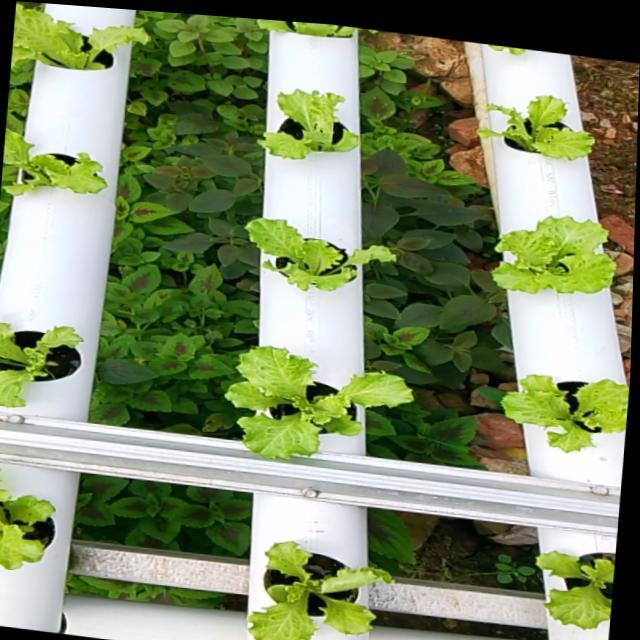Baby: (232, 348, 417, 458), (255, 539, 399, 640), (250, 220, 400, 293), (494, 219, 619, 295), (504, 375, 629, 451), (11, 10, 153, 75), (0, 317, 91, 408), (3, 129, 114, 199), (480, 99, 596, 163), (263, 93, 363, 163), (0, 461, 65, 567), (541, 549, 616, 626)
